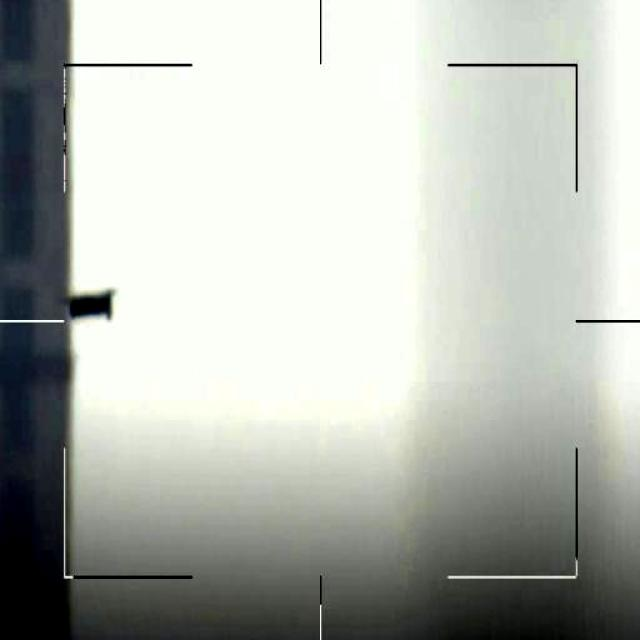bird: (62, 289, 118, 322)
